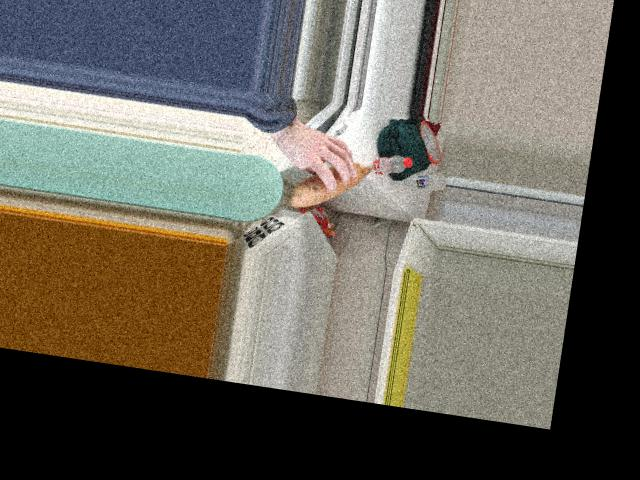sweet_potato: (300, 146, 371, 216)
